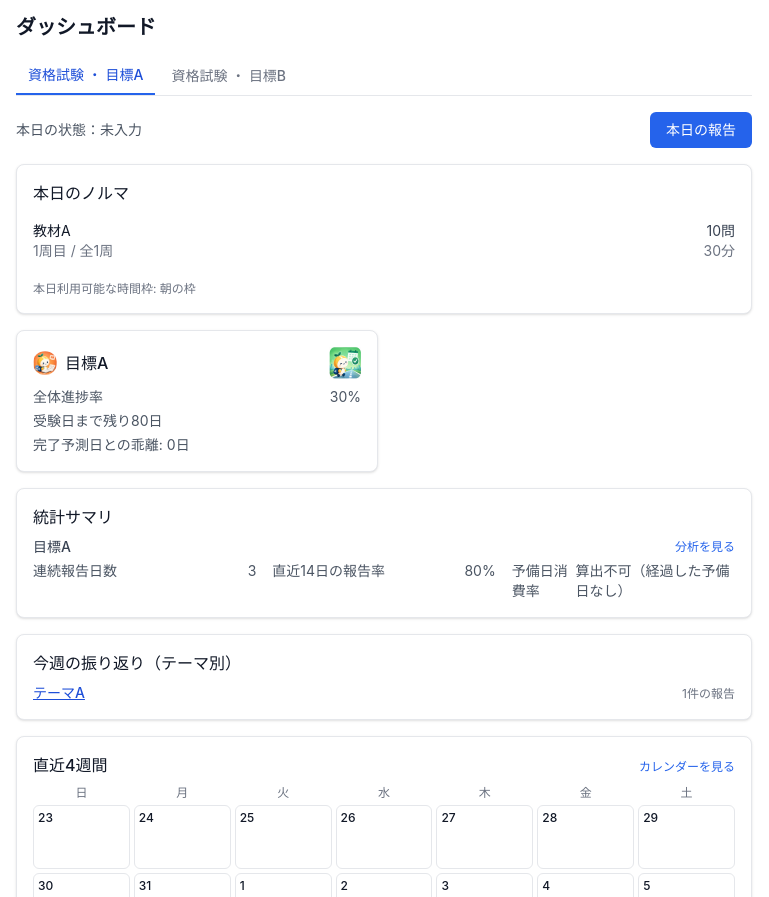
DashboardPage の目標の絞り込み › shows only the selected goal and switches everything together
Expected: the text "教材A" is shown, x1=33 y1=222 x2=71 y2=239
Expected: the text "別目標の教材" is not shown
Click the button "資格試験 ・ 目標B". click: [229, 76]
box: x1=159 y1=57 x2=298 y2=95
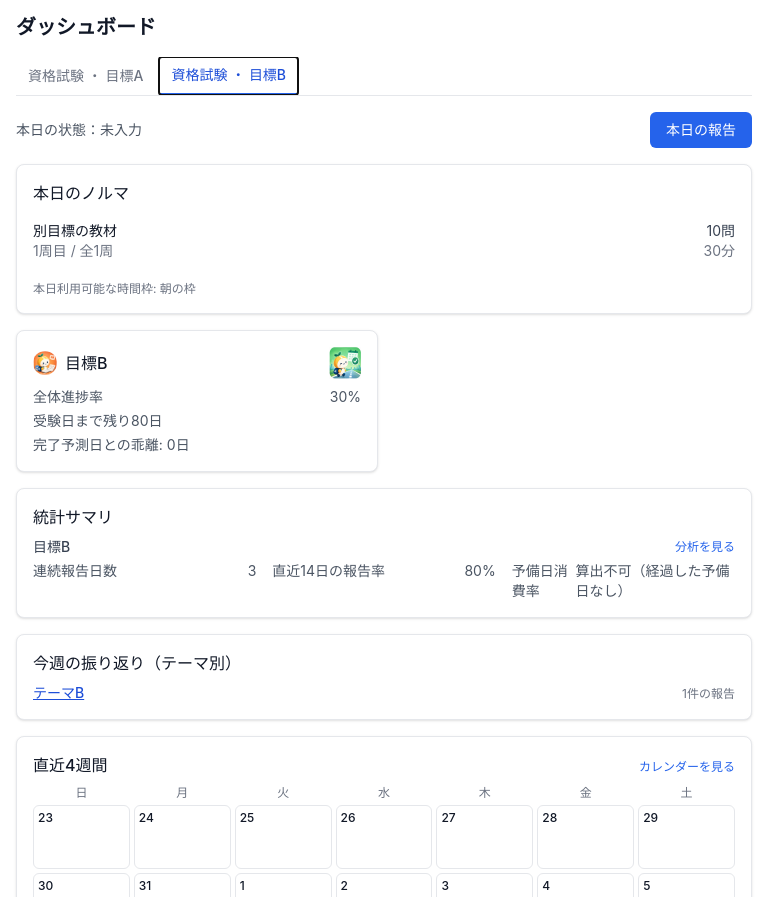
Result: the text "別目標の教材" is shown at x1=33 y1=221 x2=117 y2=241
Result: the text "教材A" is gone
Result: the link "テーマB" is shown at x1=33 y1=683 x2=84 y2=703
